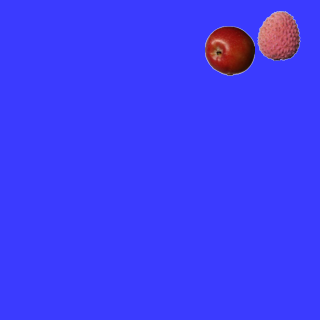Apple Braeburn: (204, 25, 254, 75)
Lychee: (253, 10, 303, 60)
